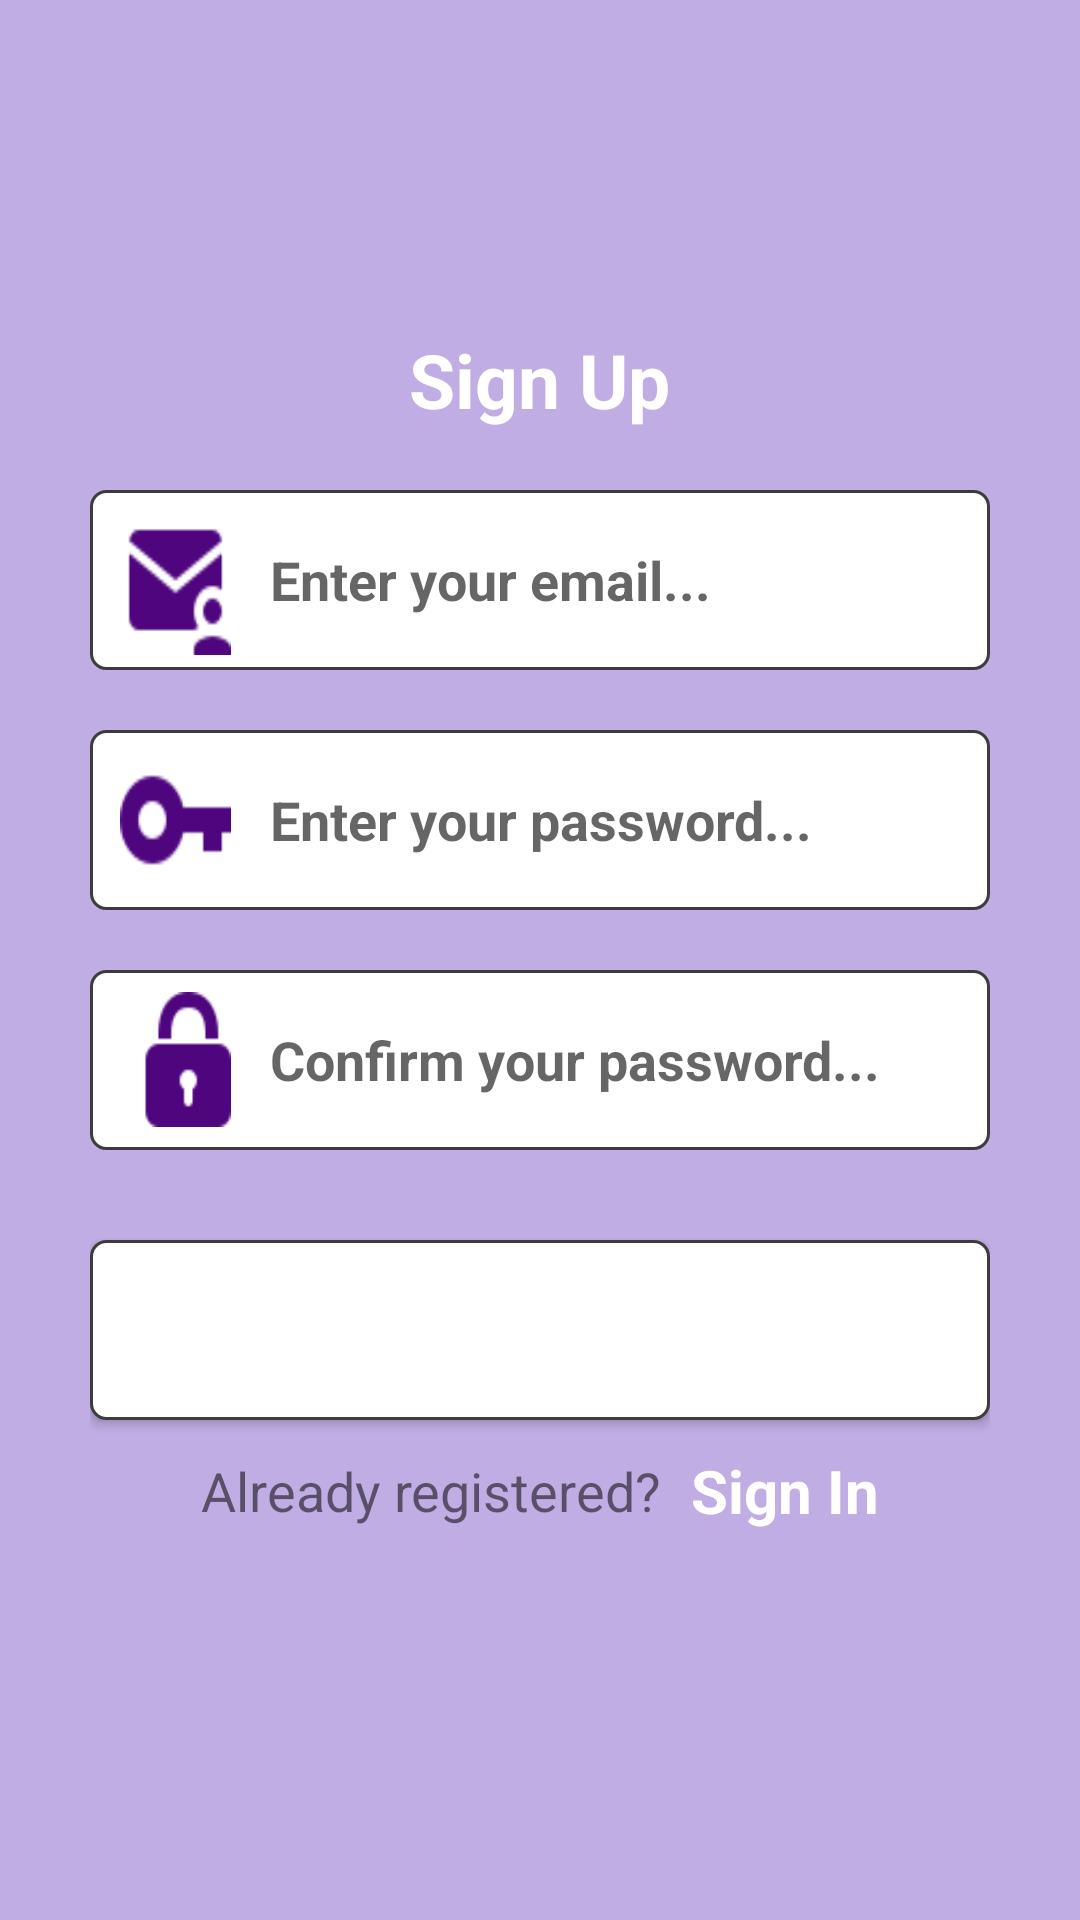

Icons on this 1080 x 1920 Android screen, each with its box as {"x1": x1, "y1": y1, "x2": x2, "y2": y2}:
lock: {"x1": 145, "y1": 992, "x2": 231, "y2": 1127}
